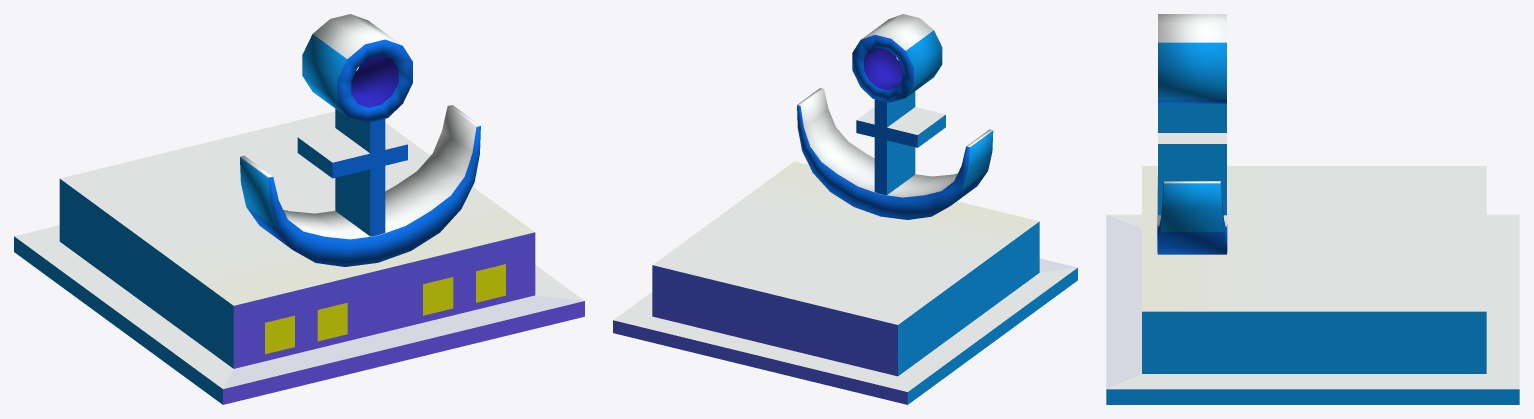
File: Port.BlueMoon.Snow.glb
3 renders of one model, left to right at view 1: azimuth 30°, elevation 25°; view 2: azimuth 150°, elevation 25°; view 3: azimuth 270°, elevation 25°, orthographic. The views are drawn at different scales.
Parts seen in each view (by area): view 1: Port.BlueMoon.Snow; view 2: Port.BlueMoon.Snow; view 3: Port.BlueMoon.Snow.
Part boxes in pixels (<box>): Port.BlueMoon.Snow: <box>14,14,584,404</box>; Port.BlueMoon.Snow: <box>613,14,1077,404</box>; Port.BlueMoon.Snow: <box>1106,14,1519,404</box>.
Bounding box in the file's own units: 2.4 × 1.9 × 2.4.
2 materials, 1 textured.
